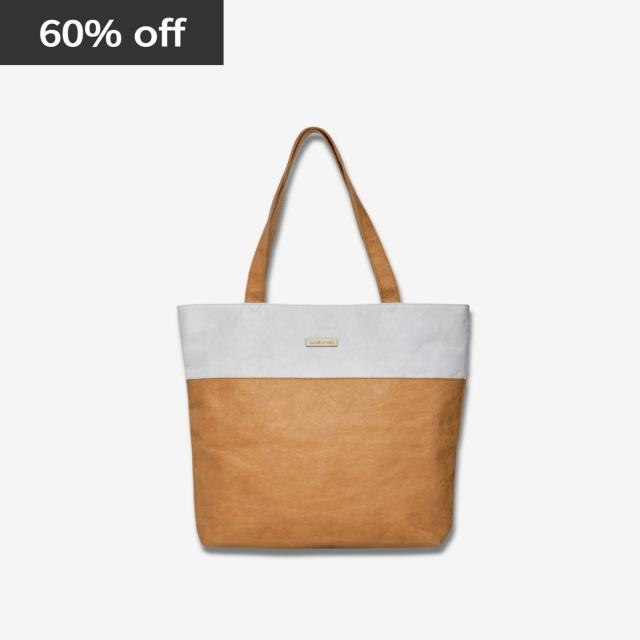ecobag: (163, 119, 493, 571)
